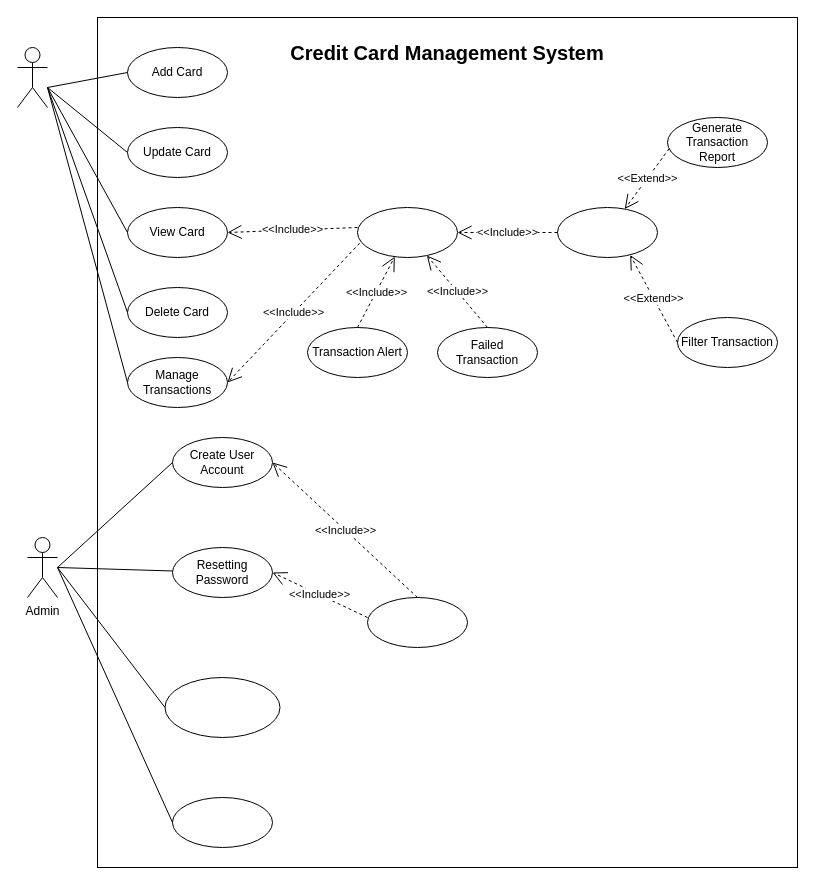
Some shapes in this 815 by 893 pixel diagram are drawn without their labels. Here are the shapes that lost their labels. From the top down, the box of each, then its label:
(16, 46, 48, 108): User
(356, 206, 458, 258): Make Transaction
(556, 206, 658, 258): View Transaction
(366, 596, 468, 648): User Database
(164, 676, 280, 738): Activate/Deactivate Account
(172, 796, 272, 848): Manage User Logs
